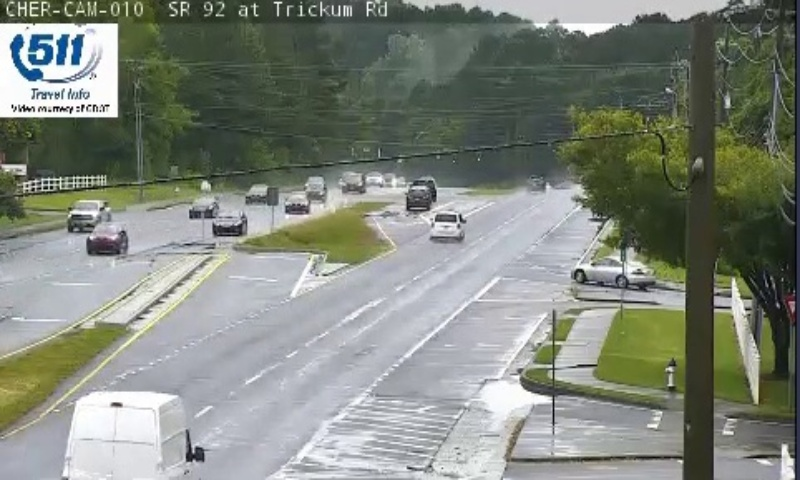car: (429, 211, 463, 240)
van: (64, 391, 197, 480)
